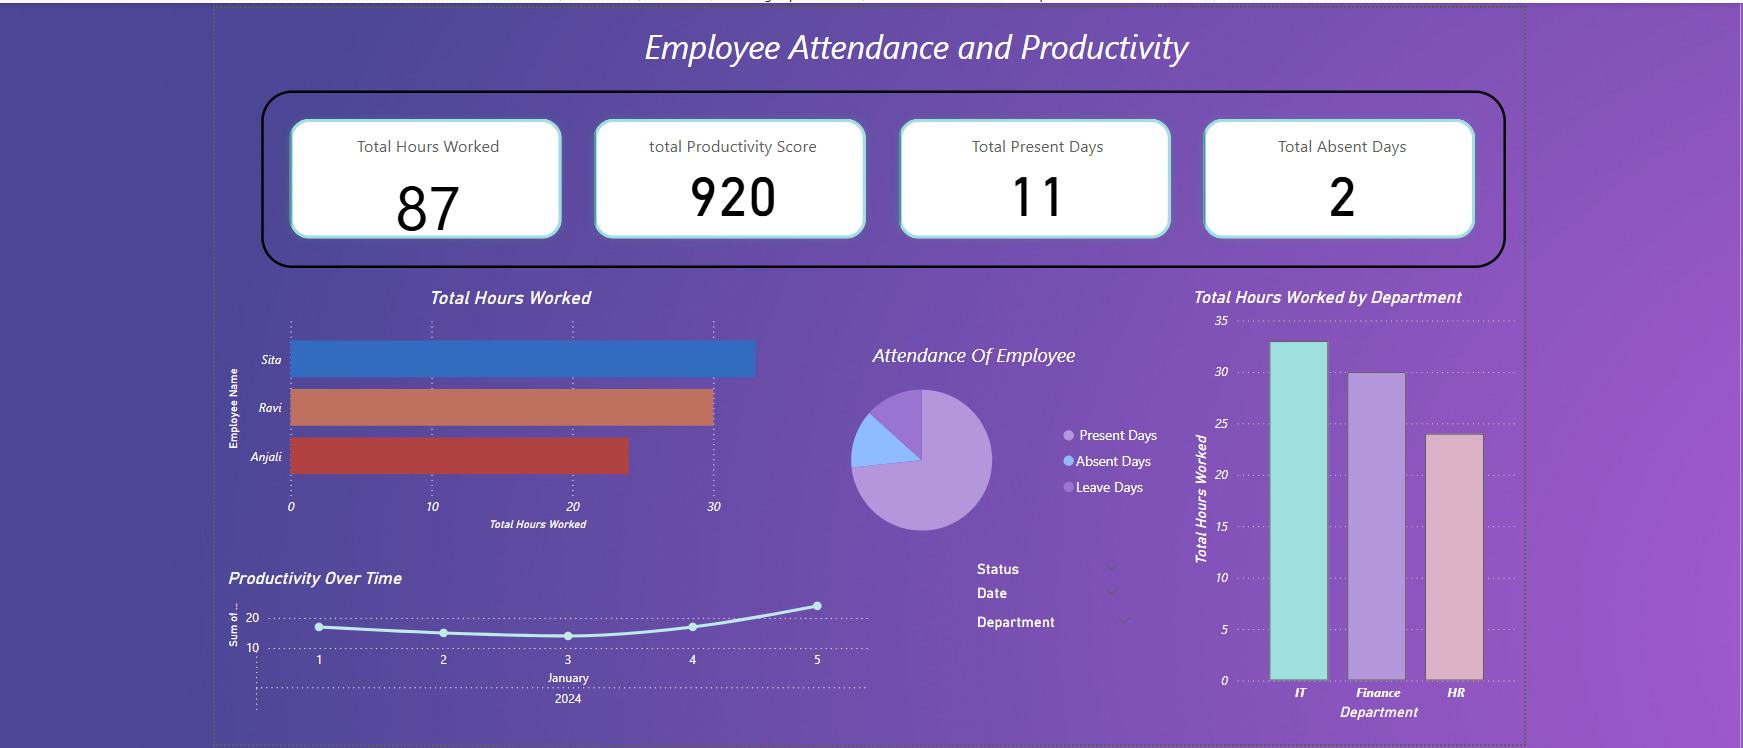

Layout of this report page (visuals, bound fields, positions):
{"tool":"powerbi","page":{"name":"Page 1","canvas":[1280,720],"ordinal":0},"visuals":[{"type":"cardVisual","fields":{"Data":["Sheet1.Hours Worked","Sheet1.Productivity Score","Sheet1.Total Present Days","Sheet1.Total Absent Days"]},"box":[45.2,80.7,1217.9,173.6],"z":0},{"type":"barChart","title":"Total Hours Worked","fields":{"Category":["Sheet1.Employee Name"],"Y":["Sheet1.Total Hours Worked"]},"box":[7.3,272.7,561.3,243.3],"z":1000},{"type":"pieChart","title":"Attendance Of Employee","fields":{"Y":["Sheet1.Total Present Days","Sheet1.Total Absent Days","Sheet1.Total Leave Days"]},"box":[548.9,326.6,387,207.2],"z":2000},{"type":"lineChart","title":"Productivity Over Time","fields":{"Category":["Sheet1.Date.Variation.Date Hierarchy.Year","Sheet1.Date.Variation.Date Hierarchy.Month","Sheet1.Date.Variation.Date Hierarchy.Day"],"Y":["Sheet1.Hours Worked"]},"box":[7.3,547.8,635.9,150.4],"z":3000},{"type":"columnChart","fields":{"Category":["Sheet1.Department"],"Y":["Sheet1.Total Hours Worked"]},"box":[951.4,272.7,328.9,429.2],"z":4000},{"type":"slicer","fields":{"Values":["Sheet1.Department"]},"box":[732.5,587,176.1,26.9],"z":5000},{"type":"slicer","fields":{"Values":["Sheet1.Date.Variation.Date Hierarchy.Year","Sheet1.Date.Variation.Date Hierarchy.Month","Sheet1.Date.Variation.Date Hierarchy.Day"]},"box":[732.5,558.8,163.9,28.1],"z":6000},{"type":"slicer","fields":{"Values":["Sheet1.Status"]},"box":[732.5,535.6,163.9,23.2],"z":7000},{"type":"textbox","box":[286.8,11,797.3,60.4],"z":8000}]}

Visuals, with their boxes on the page's 1280x720 design canvas (x1, y1, x2, y2). These are canvas units, not pixel positions in the 1743x748 screenshot, which may show the page scaled, cropped or inside an application window:
cardVisual - Sheet1.Hours Worked x Sheet1.Productivity Score: (45,81,1263,254)
"Total Hours Worked" barChart: (7,273,569,516)
"Attendance Of Employee" pieChart: (549,327,936,534)
"Productivity Over Time" lineChart: (7,548,643,698)
columnChart - Sheet1.Department x Sheet1.Total Hours Worked: (951,273,1280,702)
slicer - Sheet1.Department: (732,587,909,614)
slicer - Sheet1.Date.Variation.Date Hierarchy.Year x Sheet1.Date.Variation.Date Hierarchy.Month: (732,559,896,587)
slicer - Sheet1.Status: (732,536,896,559)
textbox: (287,11,1084,71)
